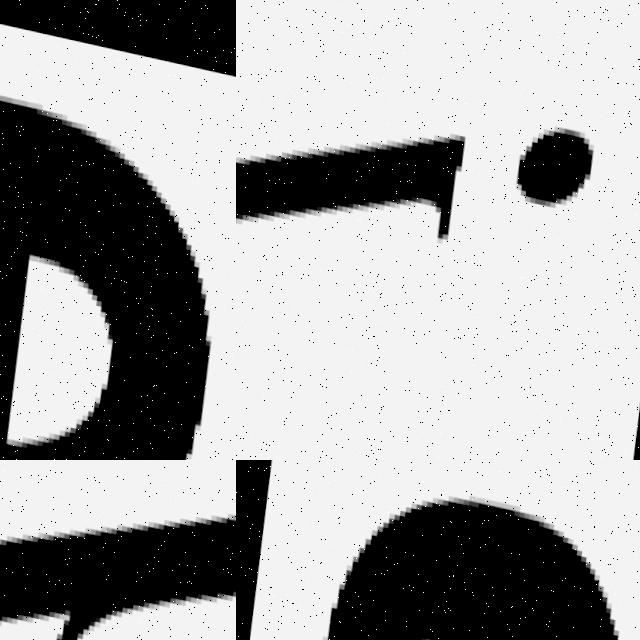E: (0, 93, 207, 460)
J: (236, 14, 613, 434)
Q: (0, 460, 236, 640)
S: (267, 460, 640, 640)
